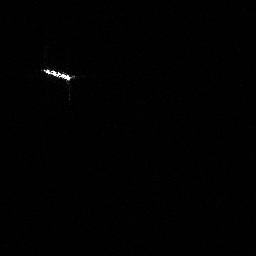ship: (40, 66, 74, 82)
